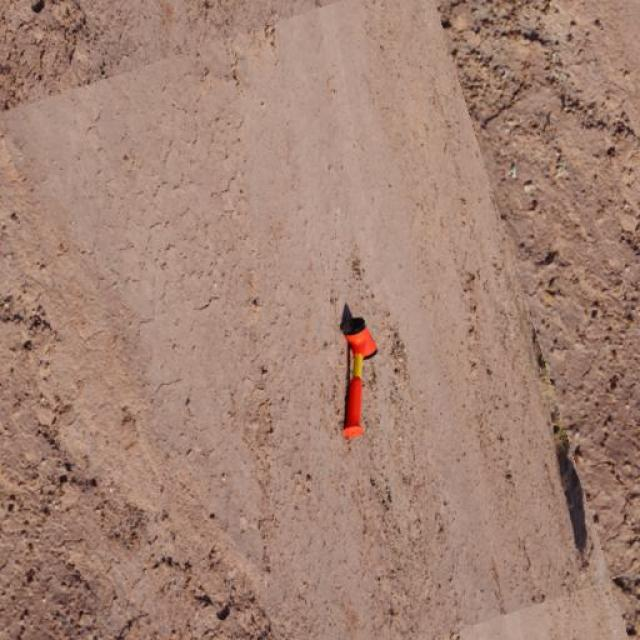mallet: (338, 301, 378, 439)
